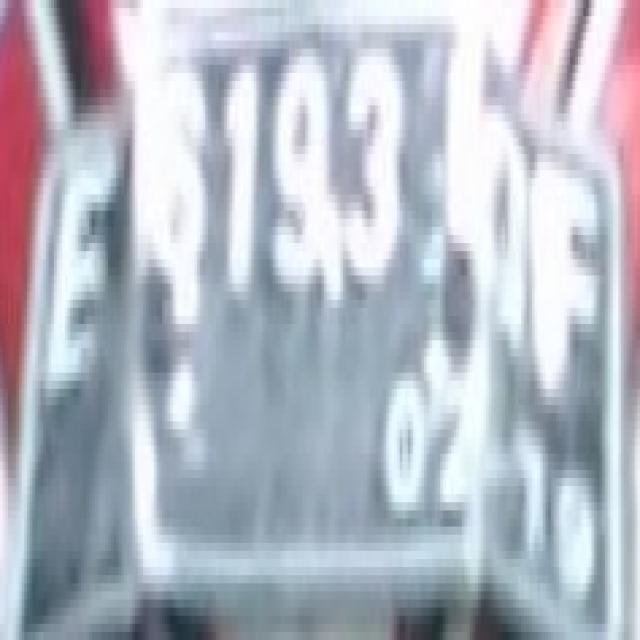plate: (19, 24, 624, 632)
